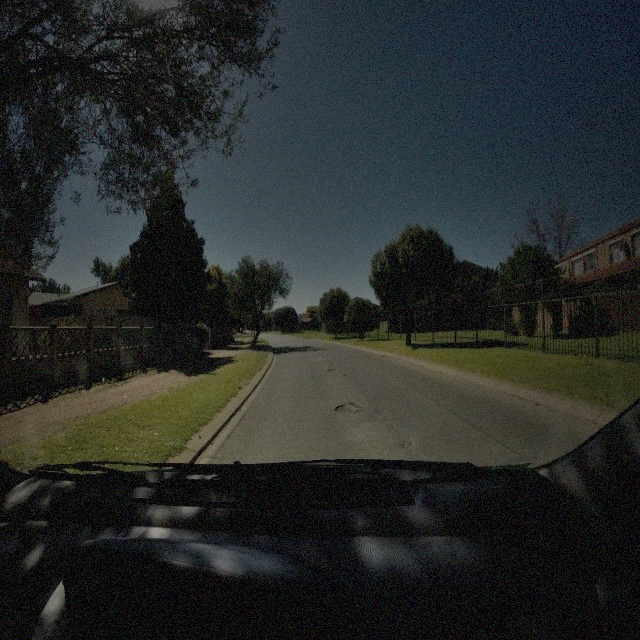pothole: (333, 398, 362, 415), (326, 366, 335, 372)
